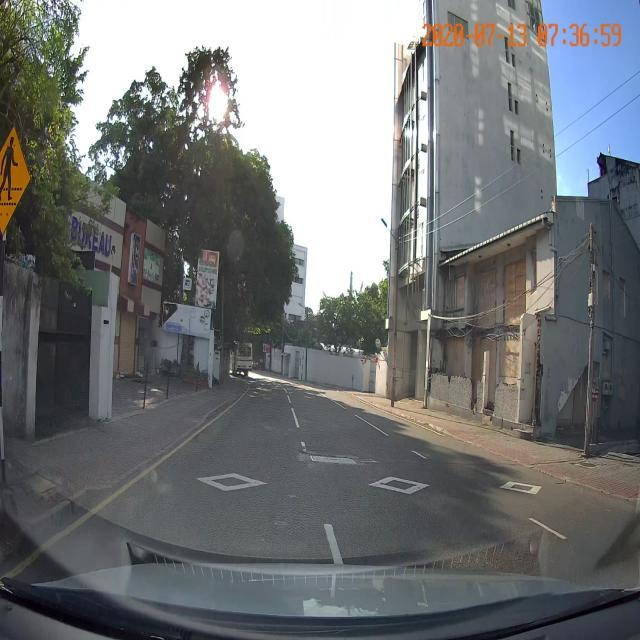diamond: (311, 472, 485, 497)
